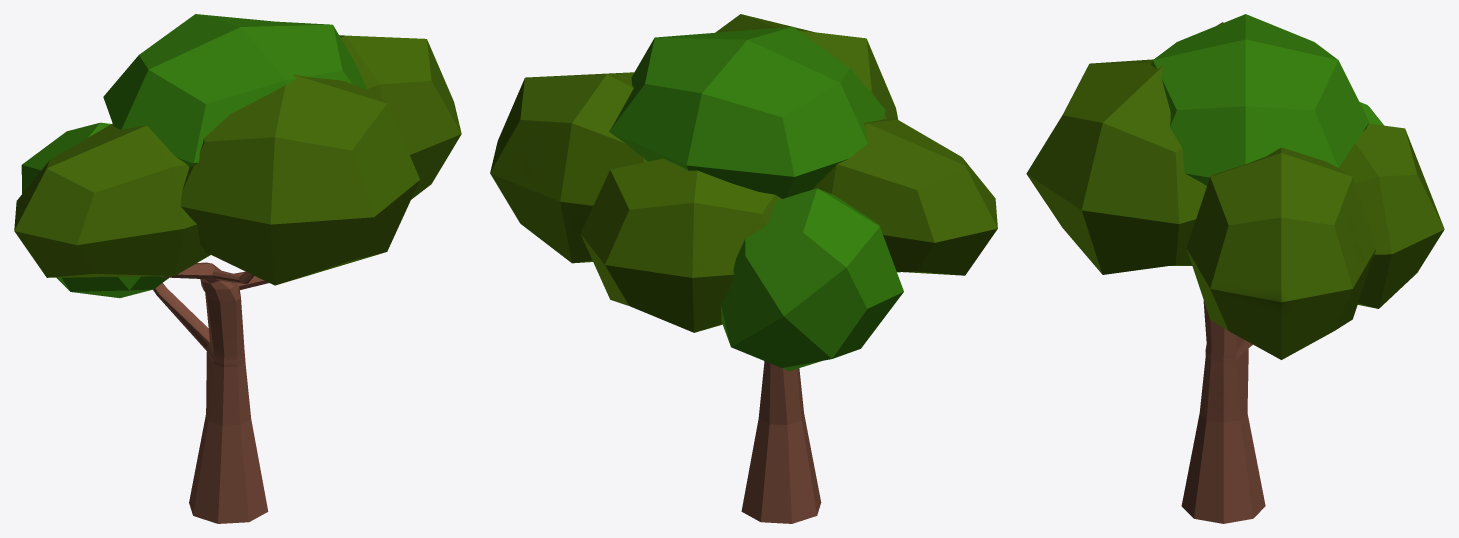
The model's file is Tree_02.fbx.
3 renders of one model, left to right at view 1: azimuth 30°, elevation 25°; view 2: azimuth 150°, elevation 25°; view 3: azimuth 270°, elevation 25°, orthographic. The views are drawn at different scales.
Visible parts, largest first — view 1: Tree_02; view 2: Tree_02; view 3: Tree_02.
Part boxes in pixels (box(x1,y1,x2,y2)): Tree_02: box(14, 14, 461, 523); Tree_02: box(490, 14, 997, 523); Tree_02: box(1026, 14, 1444, 523).
Bounding box in the file's own units: 6.91 × 6.58 × 5.22.
1 material, 1 textured.
